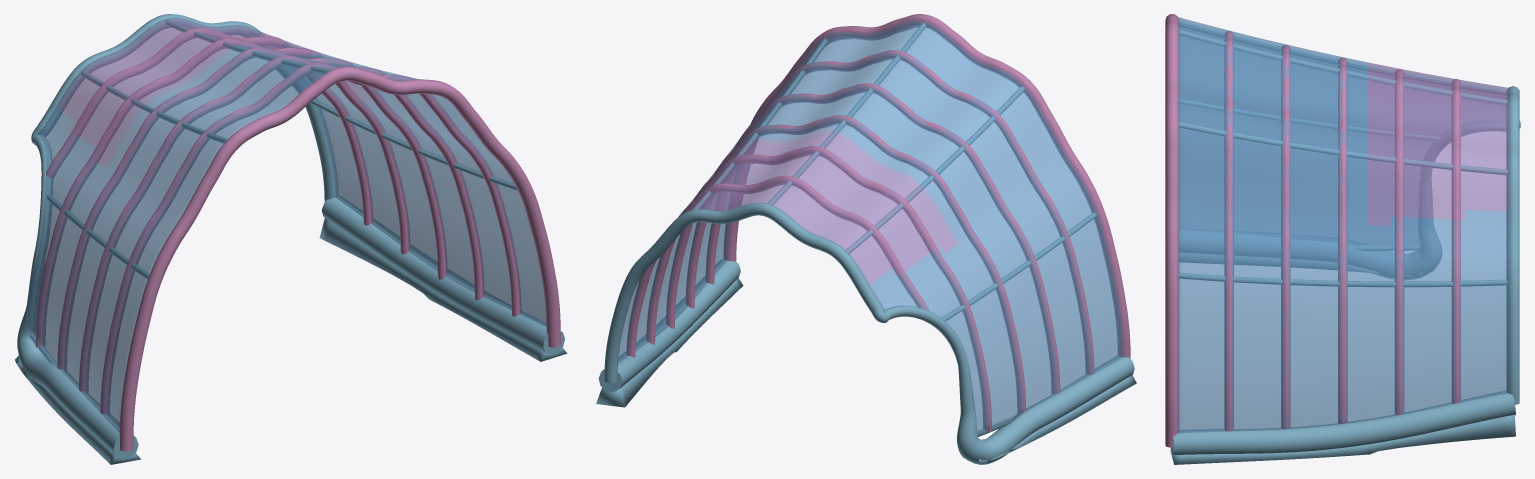
The model's file is cove-corner-v2.glb.
3 views of the same model, side by side, from view 1: azimuth 30°, elevation 25°; view 2: azimuth 150°, elevation 25°; view 3: azimuth 270°, elevation 25° (orthographic). The views are drawn at different scales.
Visible parts, largest first — view 1: Harbor / continuous translucent shell hall, Harbor / curved shell structural rib, Harbor / continuous entrance runner jamb rear arch, Harbor / curved shell structural rib.001, Harbor / shell grown footing.001, Harbor / curved shell structural rib.002, Harbor / curved shell structural rib.003, Harbor / curved shell structural rib.004, Harbor / corner structural rib joined to rim, Harbor / continuous grounded runner socket right, Harbor / continuous grounded runner socket left, Harbor / shell longitudinal seam.001 (+3 smaller); view 2: Harbor / continuous translucent shell hall, Harbor / continuous entrance runner jamb rear arch, Harbor / curved shell structural rib, Harbor / curved shell structural rib.001, Harbor / curved shell structural rib.002, Harbor / curved shell structural rib.003, Harbor / curved shell structural rib.004, Harbor / shell grown footing.001, Harbor / corner structural rib joined to rim, Harbor / continuous grounded runner socket right, Harbor / continuous grounded runner socket left, Harbor / shell longitudinal seam.004 (+3 smaller); view 3: Harbor / continuous translucent shell hall, Harbor / continuous entrance runner jamb rear arch, Harbor / shell grown footing.001, Harbor / curved shell structural rib, Harbor / curved shell structural rib.001, Harbor / continuous grounded runner socket right, Harbor / curved shell structural rib.002, Harbor / curved shell structural rib.003, Harbor / curved shell structural rib.004, Harbor / corner structural rib joined to rim, Harbor / shell longitudinal seam.001, Harbor / shell longitudinal seam.002 (+4 smaller).
Part boxes in pixels (box(x1,y1,x2,y2)): Harbor / continuous translucent shell hall: box(27, 17, 546, 432); Harbor / curved shell structural rib: box(119, 66, 561, 451); Harbor / continuous entrance runner jamb rear arch: box(17, 14, 338, 459); Harbor / curved shell structural rib.001: box(100, 62, 521, 414); Harbor / shell grown footing.001: box(321, 196, 564, 355); Harbor / curved shell structural rib.002: box(79, 55, 484, 393); Harbor / curved shell structural rib.003: box(57, 47, 447, 371); Harbor / curved shell structural rib.004: box(35, 38, 410, 347); Harbor / corner structural rib joined to rim: box(46, 27, 373, 225); Harbor / continuous grounded runner socket right: box(319, 218, 567, 361); Harbor / continuous grounded runner socket left: box(14, 355, 140, 464); Harbor / shell longitudinal seam.001: box(311, 99, 517, 190); Harbor / continuous translucent shell hall: box(618, 20, 1124, 436); Harbor / continuous entrance runner jamb rear arch: box(604, 202, 1134, 464); Harbor / curved shell structural rib: box(723, 14, 1130, 358); Harbor / curved shell structural rib.001: box(705, 50, 1094, 374); Harbor / curved shell structural rib.002: box(685, 83, 1060, 393); Harbor / curved shell structural rib.003: box(666, 115, 1026, 413); Harbor / curved shell structural rib.004: box(646, 146, 991, 431); Harbor / shell grown footing.001: box(598, 259, 740, 392); Harbor / corner structural rib joined to rim: box(626, 175, 929, 357); Harbor / continuous grounded runner socket right: box(596, 278, 743, 407); Harbor / continuous grounded runner socket left: box(977, 375, 1136, 464); Harbor / shell longitudinal seam.004: box(845, 86, 1024, 253); Harbor / continuous translucent shell hall: box(1178, 17, 1508, 433); Harbor / continuous entrance runner jamb rear arch: box(1179, 86, 1520, 404); Harbor / shell grown footing.001: box(1171, 391, 1515, 456); Harbor / curved shell structural rib: box(1165, 14, 1179, 447); Harbor / curved shell structural rib.001: box(1224, 31, 1233, 431); Harbor / continuous grounded runner socket right: box(1170, 415, 1515, 464); Harbor / curved shell structural rib.002: box(1281, 44, 1290, 429); Harbor / curved shell structural rib.003: box(1338, 57, 1347, 423); Harbor / curved shell structural rib.004: box(1394, 69, 1404, 415); Harbor / corner structural rib joined to rim: box(1451, 79, 1460, 403); Harbor / shell longitudinal seam.001: box(1178, 272, 1507, 287); Harbor / shell longitudinal seam.002: box(1179, 122, 1507, 174).
Bounding box in the file's own units: 4.99 × 3.67 × 3.46.
